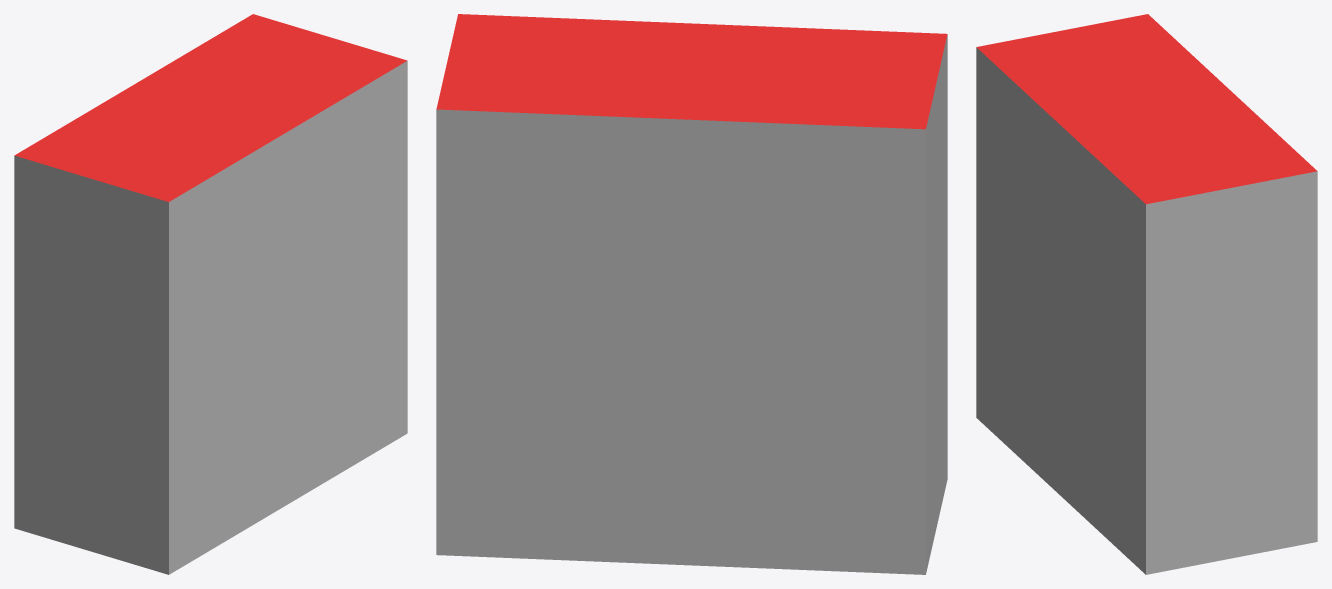
Rendered from ID_c2da23c2-c390-432e-85d4-6ddcea6fb686.dae.
3 renders of one model, left to right at view 1: azimuth 30°, elevation 25°; view 2: azimuth 150°, elevation 25°; view 3: azimuth 270°, elevation 25°, orthographic. The views are drawn at different scales.
Bounding box in the file's own units: 14.32 × 10.85 × 13.
